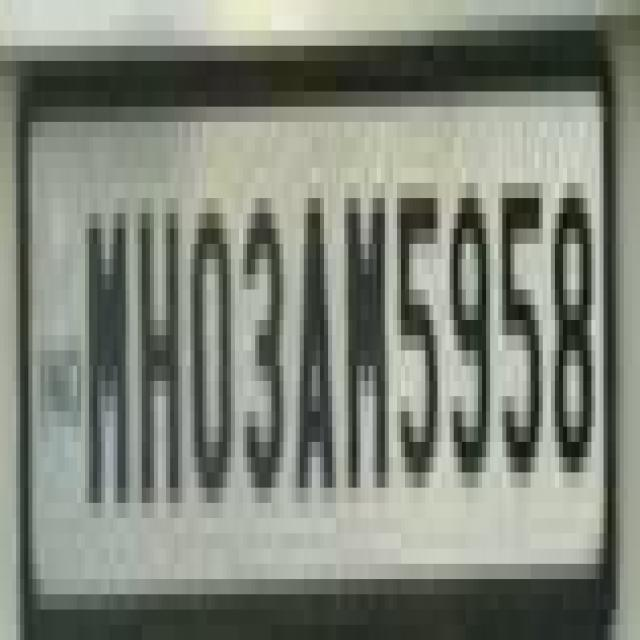license_plate: (4, 46, 608, 624)
